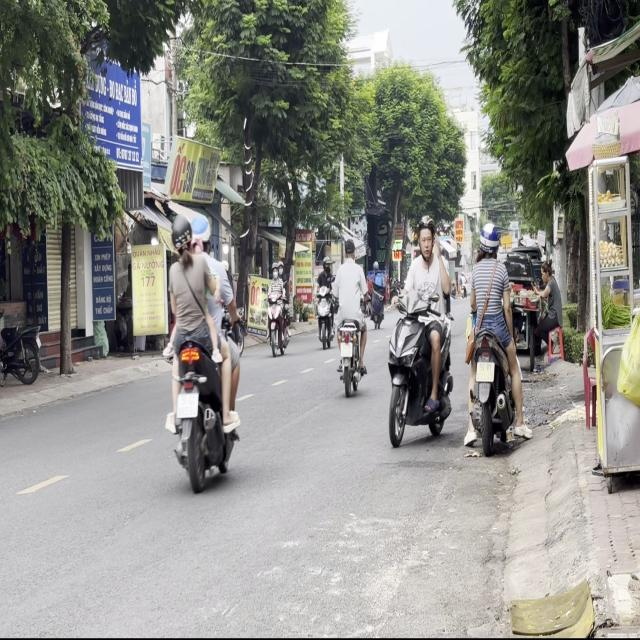helmet: (171, 213, 193, 257), (190, 212, 211, 253), (416, 214, 435, 258), (477, 222, 499, 258)
licenseplate: (162, 207, 241, 489), (384, 213, 454, 448), (462, 218, 525, 454)
nohelmet: (176, 393, 198, 418), (476, 362, 495, 382)
